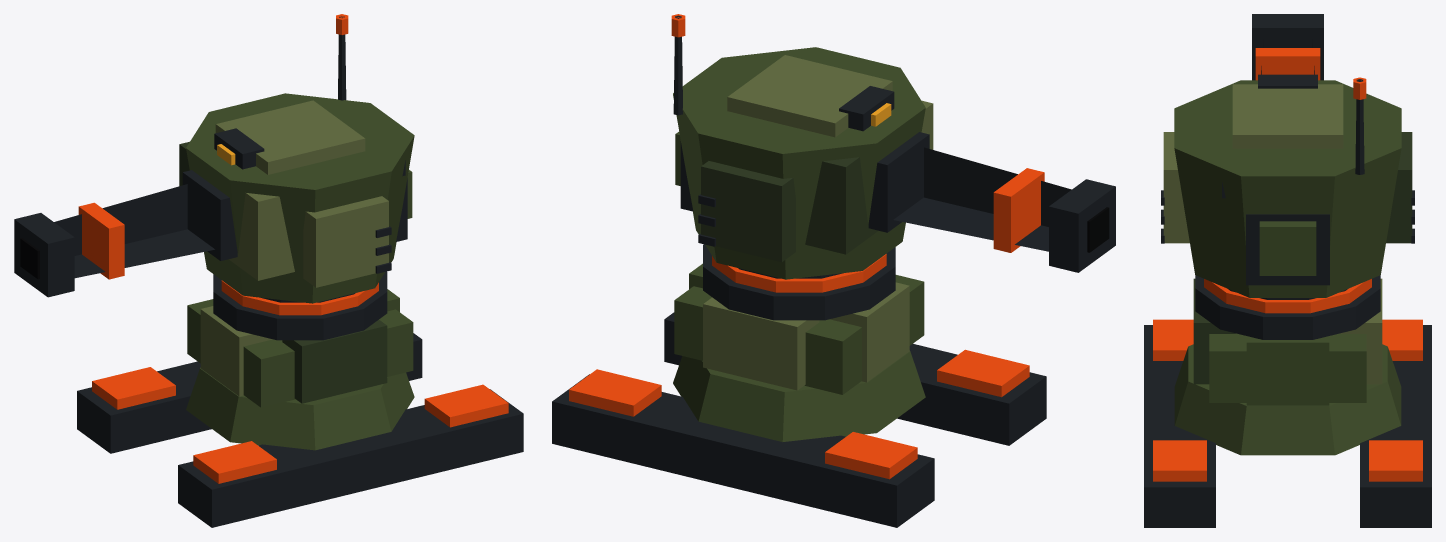
Rendered from Low_poly_turret_001.fbx.
3 renders of one model, left to right at view 1: azimuth 30°, elevation 25°; view 2: azimuth 150°, elevation 25°; view 3: azimuth 270°, elevation 25°, orthographic. The views are drawn at different scales.
Parts seen in each view (by area): view 1: low_poly_turret; view 2: low_poly_turret; view 3: low_poly_turret.
Part boxes in pixels (left/top/right/bottom): low_poly_turret: left=14, top=14, right=523, bottom=527; low_poly_turret: left=552, top=14, right=1115, bottom=527; low_poly_turret: left=1144, top=14, right=1431, bottom=527.
Bounding box in the file's own units: 351 × 298 × 192.
